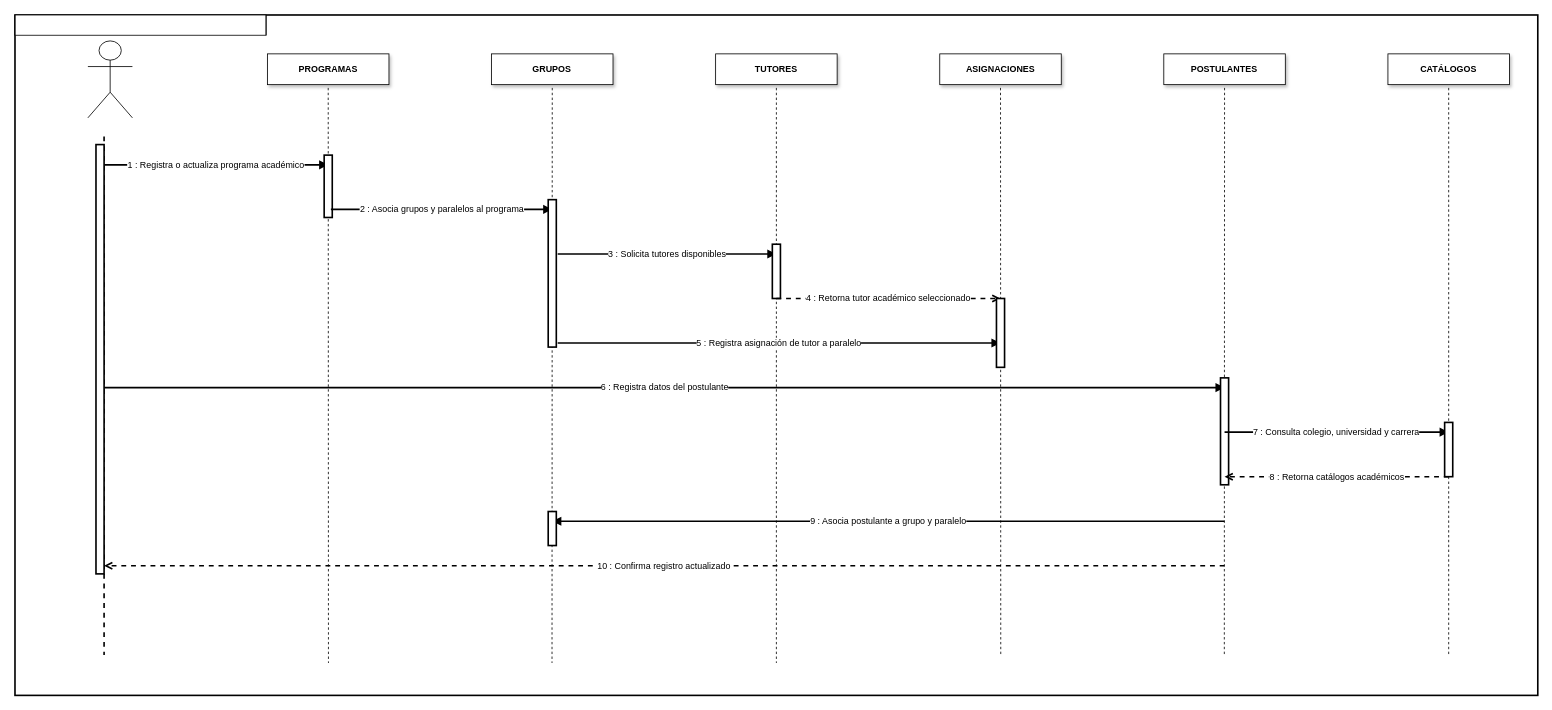
This 1552x710 diagram has some shape labels left out. Here are the shapes that lost their labels. From the top down, the centre of each, then its label:
At pixel 140 24: "GESTIÓN INSTITUCIONAL Y POSTULANTES".
At pixel 109 79: "A: Administrador/Secretaría".
